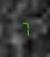seven: (19, 20, 29, 36)
